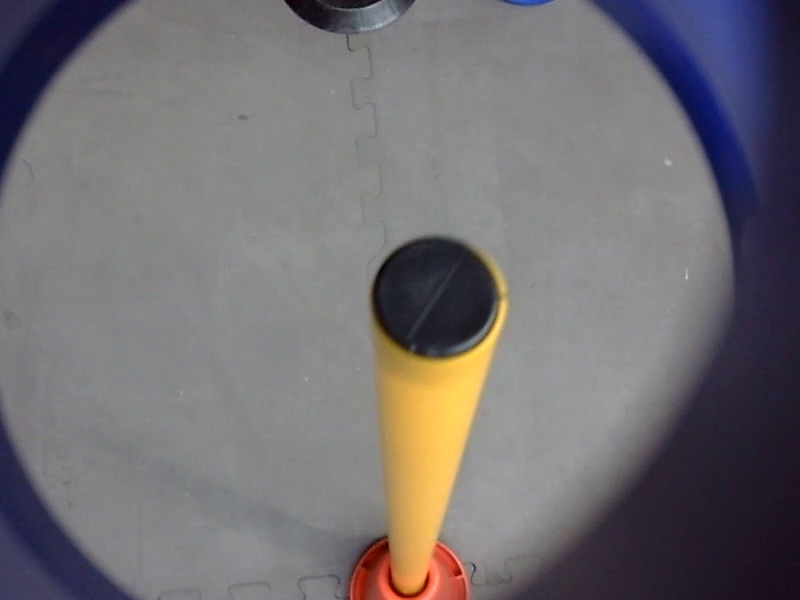tip: (357, 224, 515, 375)
